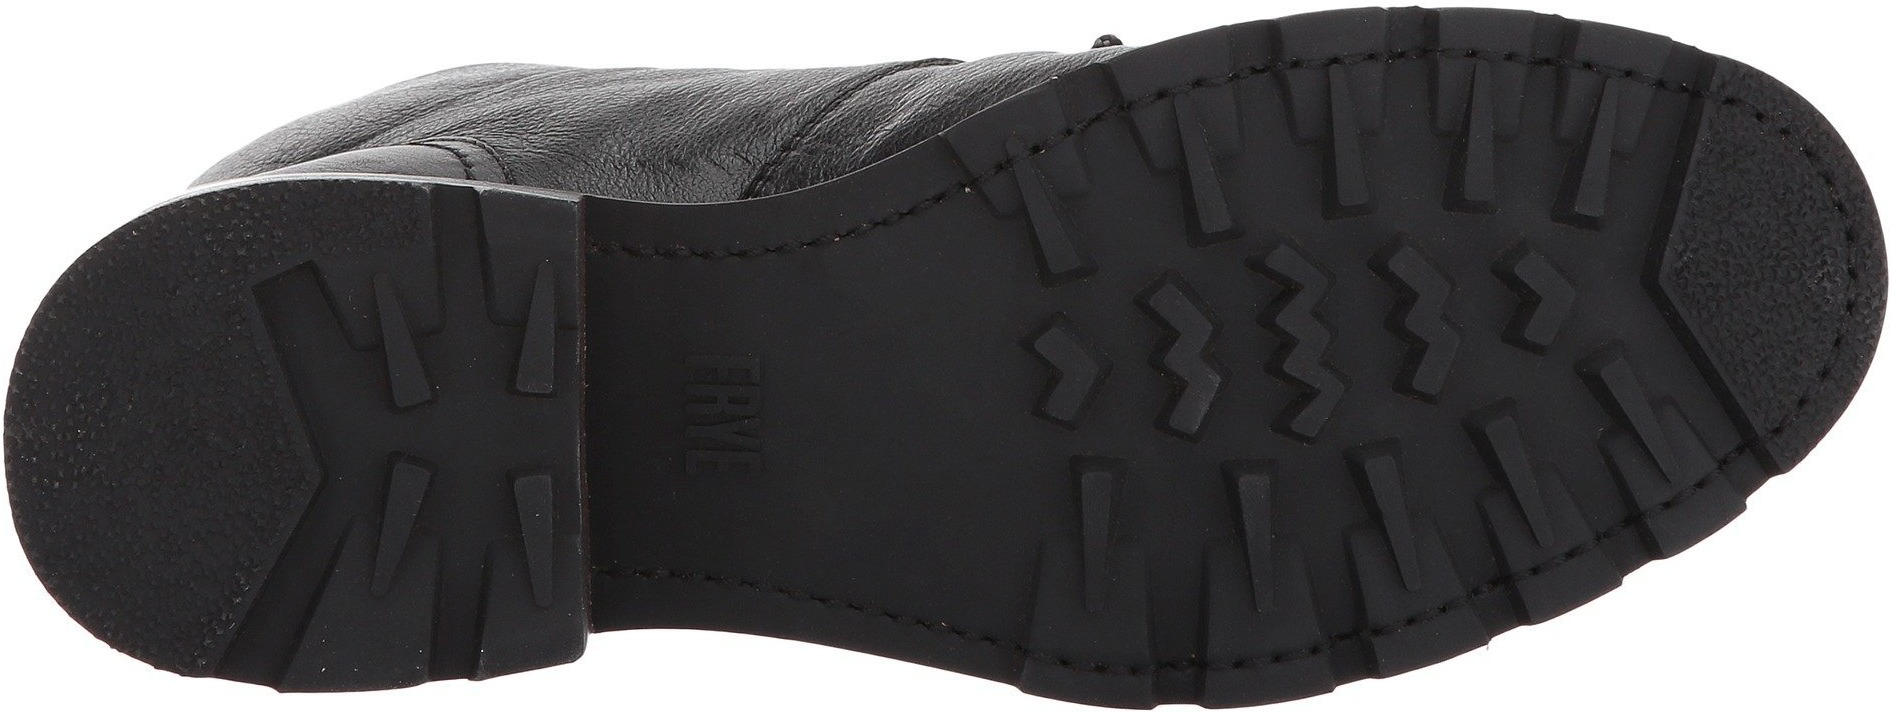chevron: (1230, 238, 1464, 458), (1008, 268, 1201, 472), (1491, 226, 1633, 369)
exclude: (586, 164, 936, 665)
other: (47, 345, 263, 553), (1690, 191, 1832, 345)
quad: (975, 425, 1213, 703), (986, 434, 1195, 712), (1259, 14, 1427, 222), (1254, 19, 1441, 199)
text: (656, 351, 796, 478)
triangle: (343, 257, 580, 624), (986, 434, 1195, 712), (1259, 14, 1427, 222)
